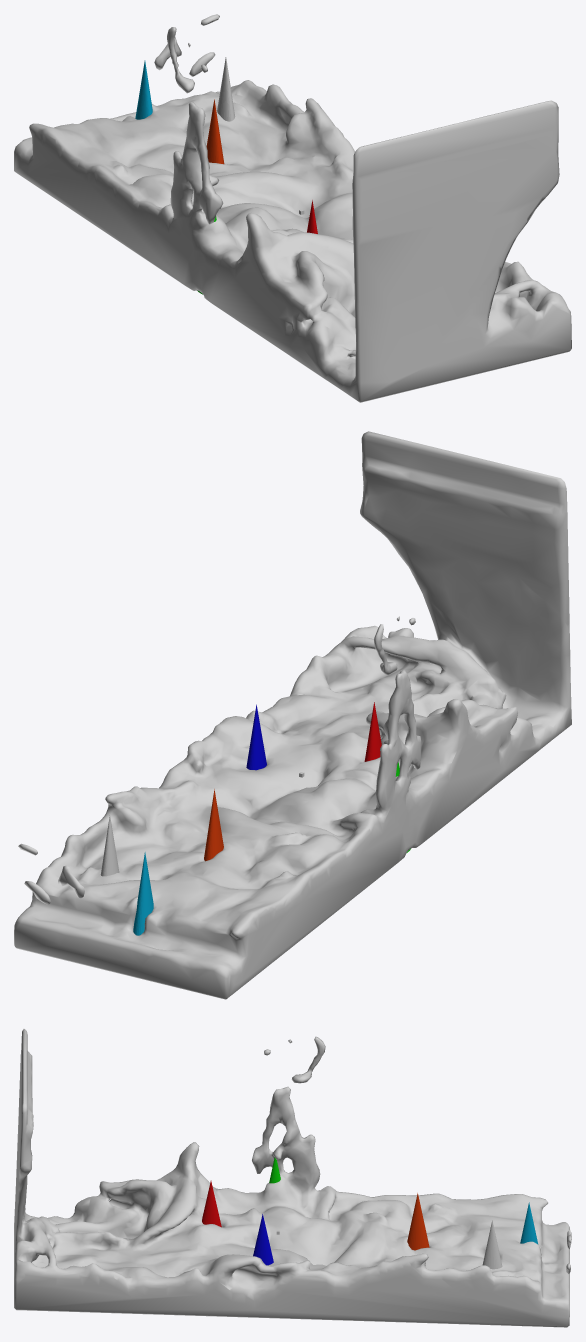
3 renders of one model, top to bottom at view 1: azimuth 30°, elevation 25°; view 2: azimuth 150°, elevation 25°; view 3: azimuth 270°, elevation 25°, orthographic. The views are drawn at different scales.
Parts seen in each view (by area): view 1: Liquid_Domain, 円錐.004, 円錐, 円錐.005; view 2: Liquid_Domain, 円錐.005, 円錐.004, 円錐.002; view 3: Liquid_Domain, 円錐.004, 円錐.002, 円錐, 円錐.001, 円錐.005.
Part boxes in pixels (x1=…): Liquid_Domain: x1=14, y1=14, x2=571, y2=402; 円錐.004: x1=206, y1=99, x2=224, y2=164; 円錐: x1=217, y1=57, x2=235, y2=121; 円錐.005: x1=135, y1=60, x2=152, y2=119; Liquid_Domain: x1=14, y1=431, x2=571, y2=999; 円錐.005: x1=133, y1=852, x2=153, y2=935; 円錐.004: x1=204, y1=789, x2=223, y2=861; 円錐.002: x1=246, y1=704, x2=266, y2=770; Liquid_Domain: x1=14, y1=1029, x2=571, y2=1327; 円錐.004: x1=407, y1=1193, x2=429, y2=1250; 円錐.002: x1=253, y1=1214, x2=273, y2=1265; 円錐: x1=482, y1=1220, x2=502, y2=1269; 円錐.001: x1=202, y1=1180, x2=221, y2=1227; 円錐.005: x1=520, y1=1202, x2=538, y2=1244.
Bounding box in the file's own units: 129 × 158 × 362.
